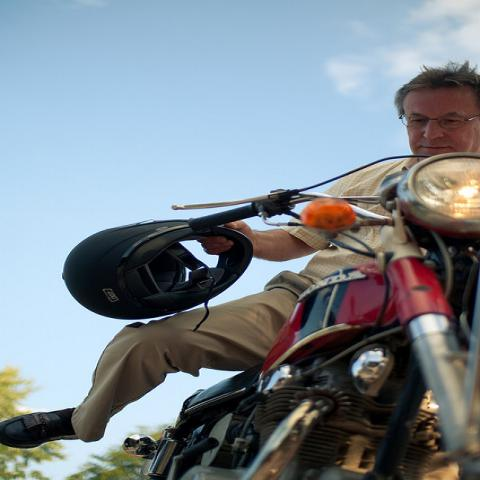motorcycle: (120, 148, 479, 472)
